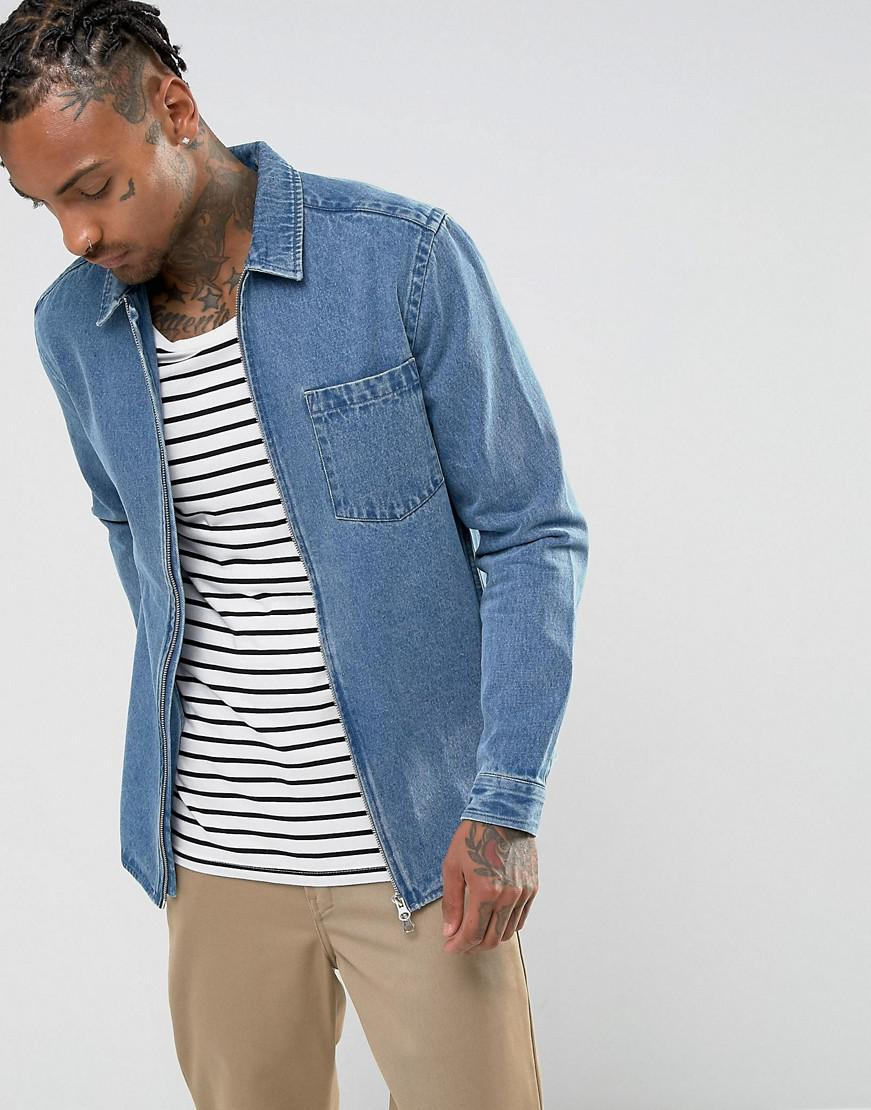teeshirt: (22, 234, 642, 820)
